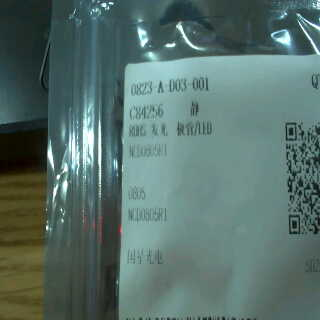LED: (147, 117, 224, 137)
